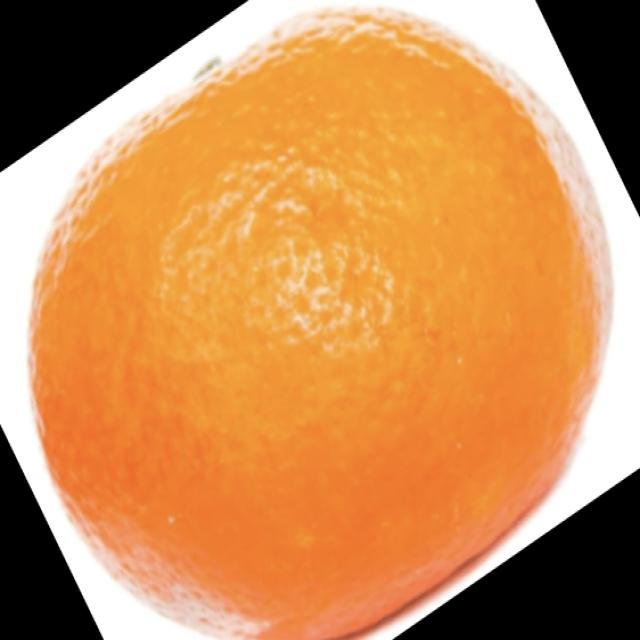Orange: (26, 1, 615, 639)
